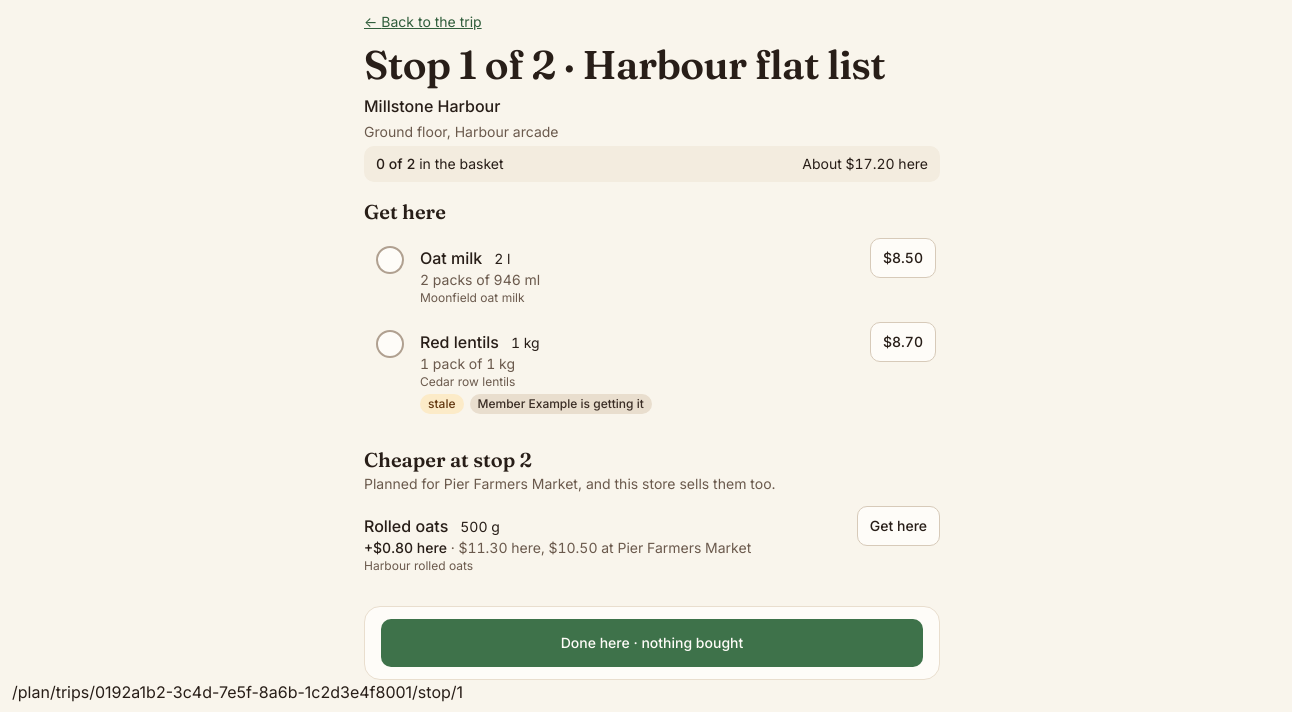
Scenario: the stop screen (UI-4.8, UI-8.17) › holds an edited price with the neutral tint and edited, and clears it
Click the button named "Price of Oat milk, $8.50".
click(903, 258)  # box [870,238,936,278]
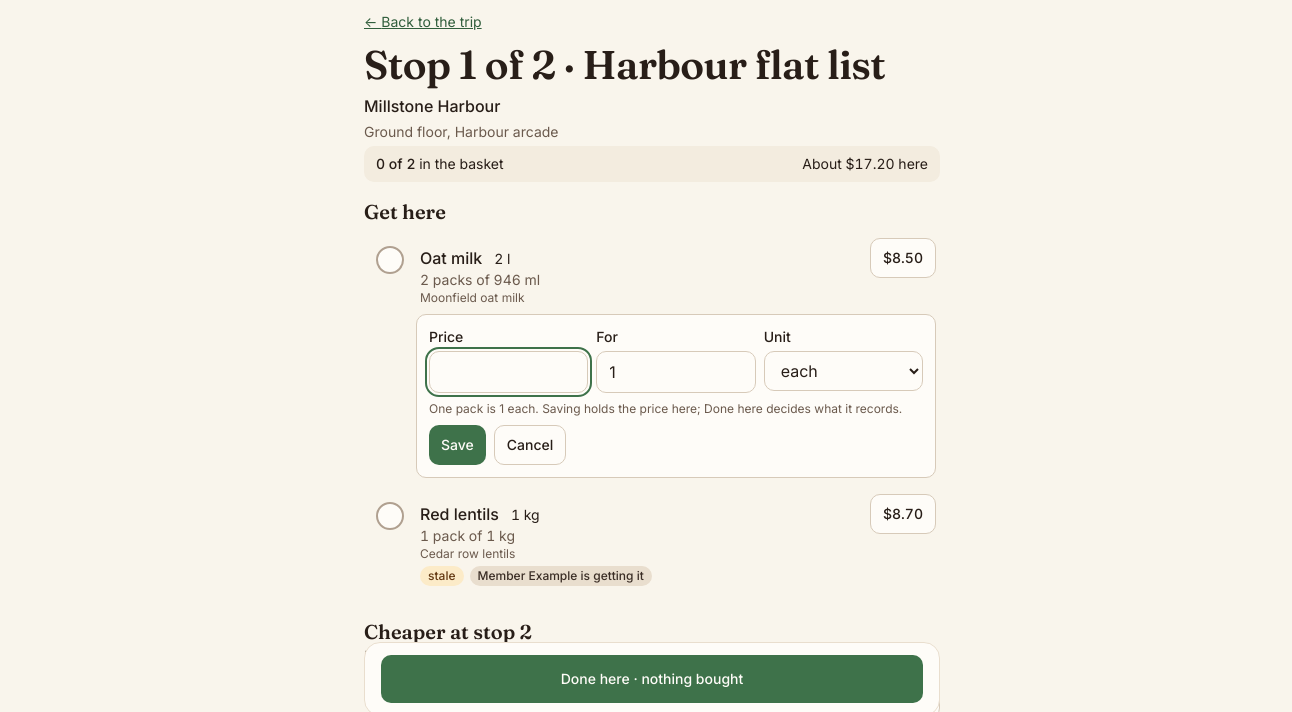
Type "3.99" into the field labelled "Price".
click(509, 372); type("3.99")  # box [429,351,588,393]
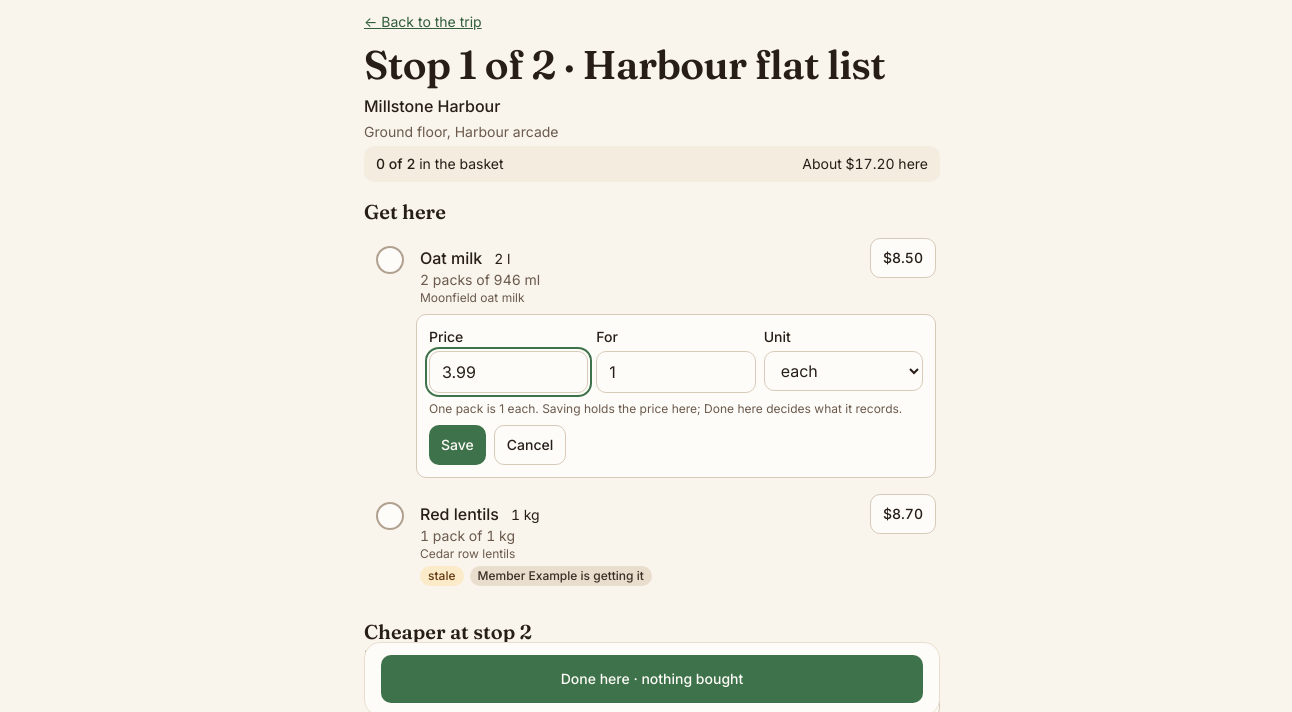
Click the button "Save".
click(457, 445)  # box [429,425,486,465]
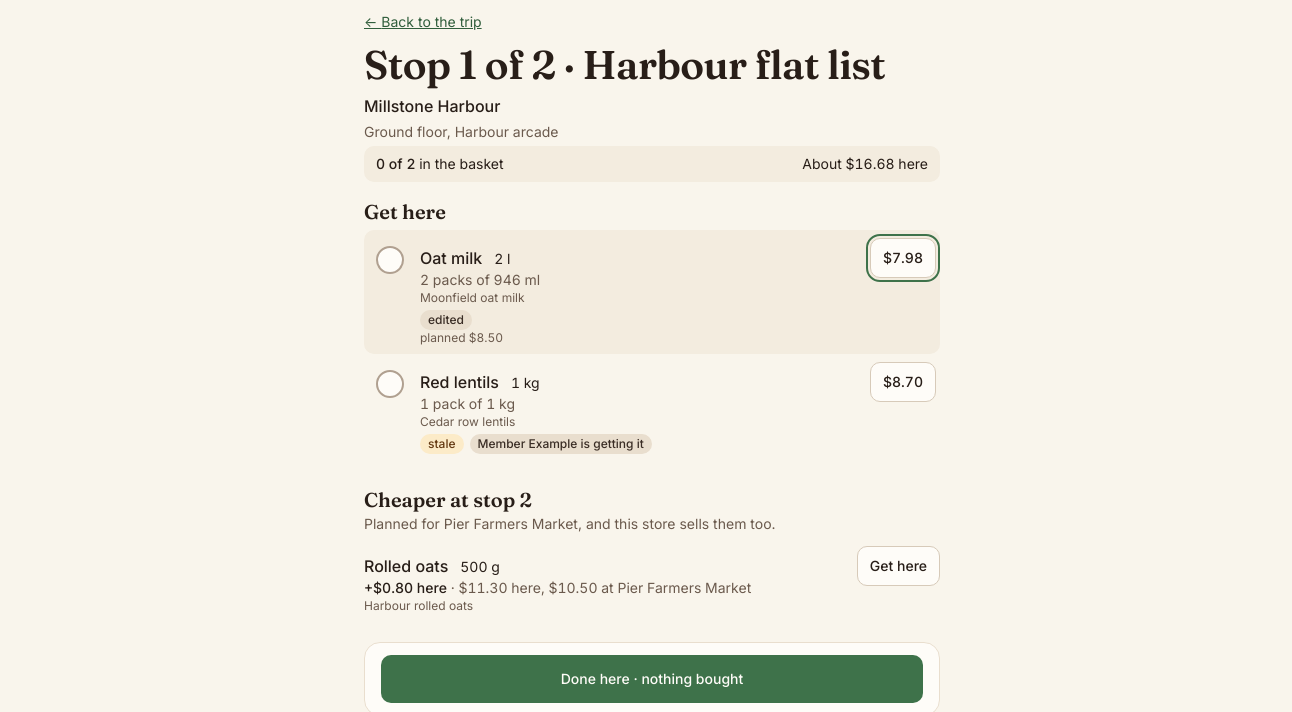
Now the text "edited" is shown, box [420,310,472,330]
Now the text with test id "planned-caption" reads "planned $8.50", box [420,330,503,345]
Now the button with test id "item-price" reads "$7.98"
Click the button with test id "item-price".
click(903, 258)  # box [870,238,936,278]
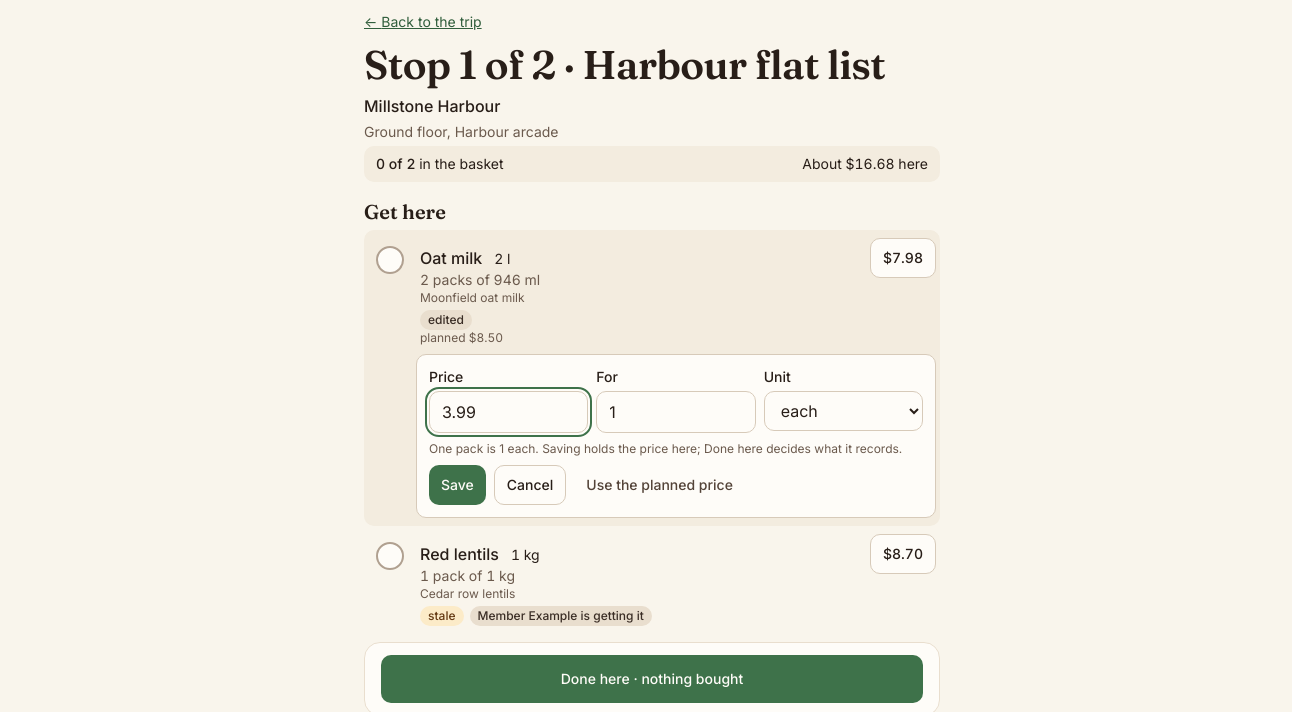
Click the button "Use the planned price".
click(660, 485)  # box [574,465,745,505]
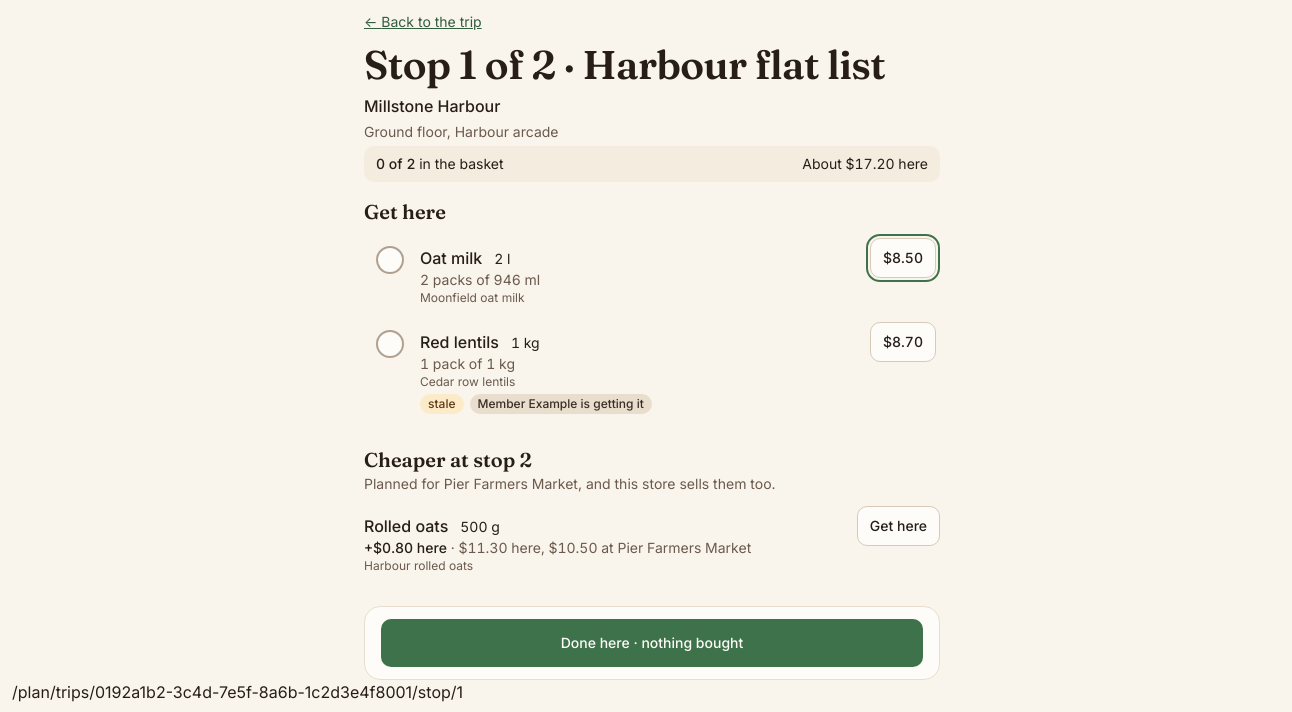
Now the text "edited" is gone
